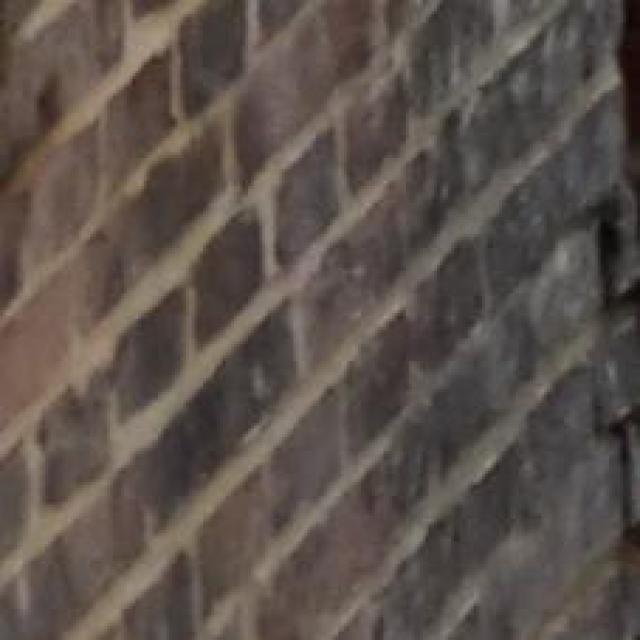Crack: (578, 0, 640, 557)
